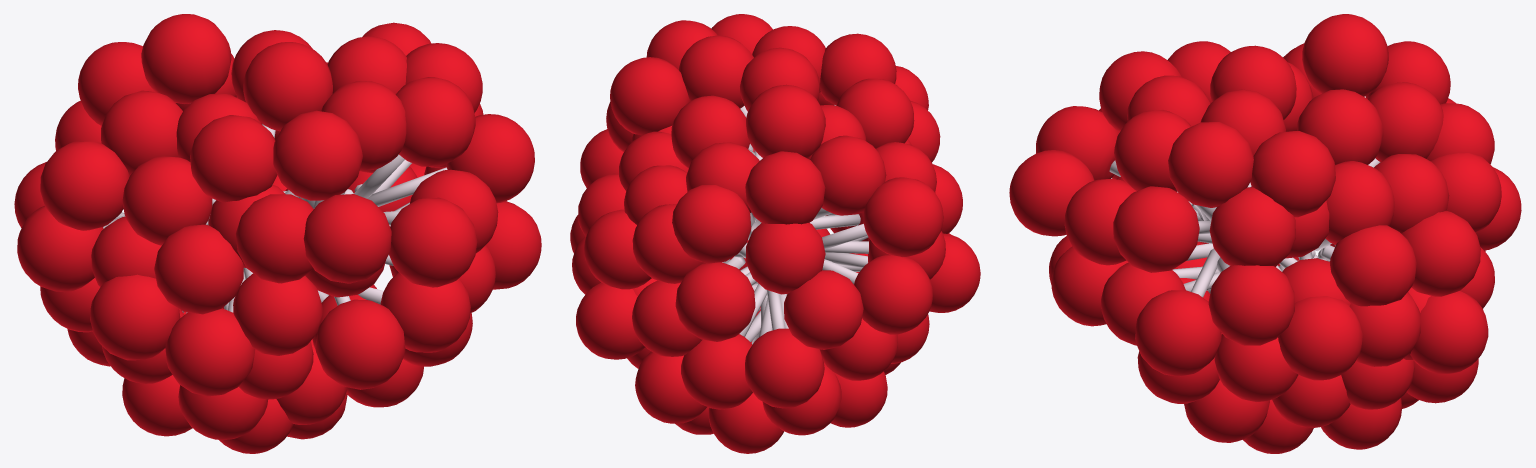
File: Rowan Berries.fbx
The picture shows the model from 3 angles, left to right: view 1: azimuth 30°, elevation 25°; view 2: azimuth 150°, elevation 25°; view 3: azimuth 270°, elevation 25°; orthographic projection. The views are drawn at different scales.
Parts seen in each view (by area): view 1: UVSphere.069, UVSphere.068, UVSphere.029, UVSphere.071, UVSphere.070, rowan berries, UVSphere.022, UVSphere.067, UVSphere.017, UVSphere.061, UVSphere.023, UVSphere.021 (+36 smaller); view 2: rowan berries, UVSphere.025, UVSphere.026, UVSphere.031, UVSphere.034, UVSphere.028, UVSphere.032, UVSphere.052, UVSphere.029, UVSphere.024, UVSphere.027, UVSphere.006 (+38 smaller); view 3: UVSphere.065, UVSphere.055, UVSphere.050, UVSphere.056, UVSphere.029, UVSphere.059, UVSphere.058, UVSphere.052, UVSphere.048, UVSphere.071, UVSphere.047, UVSphere.044 (+32 smaller).
Part boxes in pixels (x1,y1,x2,y2): UVSphere.069: (315,299,405,389); UVSphere.068: (273,110,362,200); UVSphere.029: (141,14,231,103); UVSphere.071: (389,197,477,287); UVSphere.070: (303,194,391,283); rowan berries: (40,141,129,230); UVSphere.022: (154,224,243,314); UVSphere.067: (190,115,277,202); UVSphere.017: (165,308,255,396); UVSphere.061: (243,42,332,131); UVSphere.023: (90,274,180,360); UVSphere.021: (122,156,212,245); rowan berries: (863,177,943,256); UVSphere.025: (675,262,755,341); UVSphere.026: (672,185,751,263); UVSphere.031: (745,328,824,408); UVSphere.034: (854,255,932,334); UVSphere.028: (745,151,825,224); UVSphere.032: (784,270,863,349); UVSphere.052: (610,57,689,135); UVSphere.029: (746,84,825,158); UVSphere.024: (746,223,825,294); UVSphere.027: (810,135,886,215); UVSphere.006: (681,334,752,409); UVSphere.065: (1113,186,1199,272); UVSphere.055: (1135,290,1221,376); UVSphere.050: (1168,122,1253,207); UVSphere.056: (1208,265,1294,345); UVSphere.029: (1302,14,1388,96); UVSphere.059: (1330,225,1416,306); UVSphere.058: (1278,296,1362,380); UVSphere.052: (1250,131,1335,217); UVSphere.048: (1209,187,1295,266); UVSphere.071: (1009,150,1094,236); UVSphere.047: (1410,291,1488,373); UVSphere.044: (1401,210,1480,296).
Bounding box in the file's own units: 1109 × 997 × 1173.
